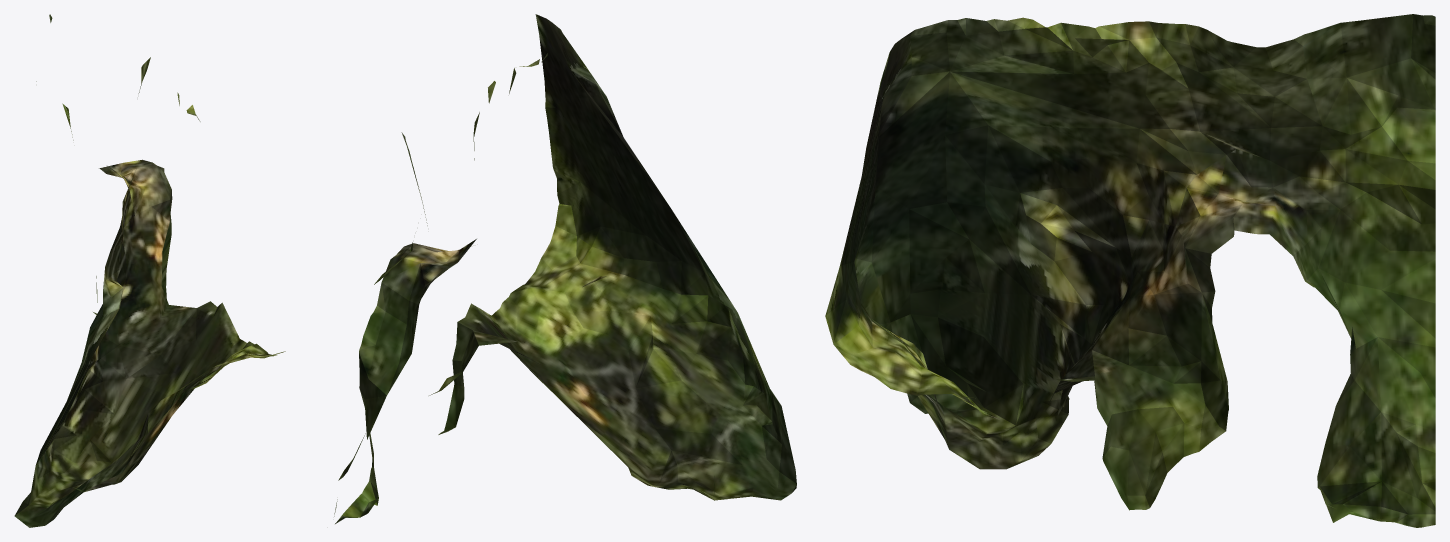
3 views of the same model, side by side, from view 1: azimuth 30°, elevation 25°; view 2: azimuth 150°, elevation 25°; view 3: azimuth 270°, elevation 25° (orthographic). The views are drawn at different scales.
Size of the model in its own units: 1.8 by 2.49 by 2.62.
3 materials, 3 textured.
